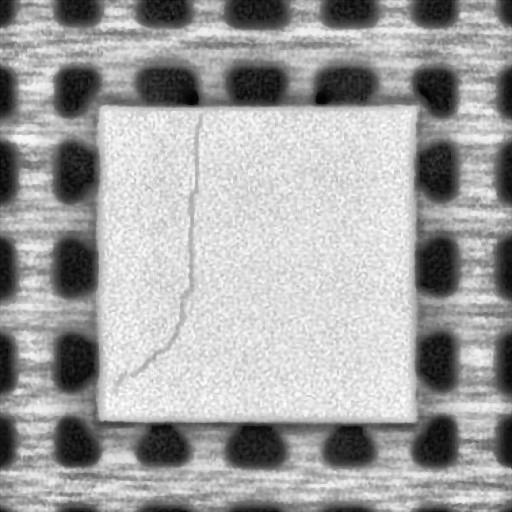DIE_CRACK: (111, 110, 202, 388)
